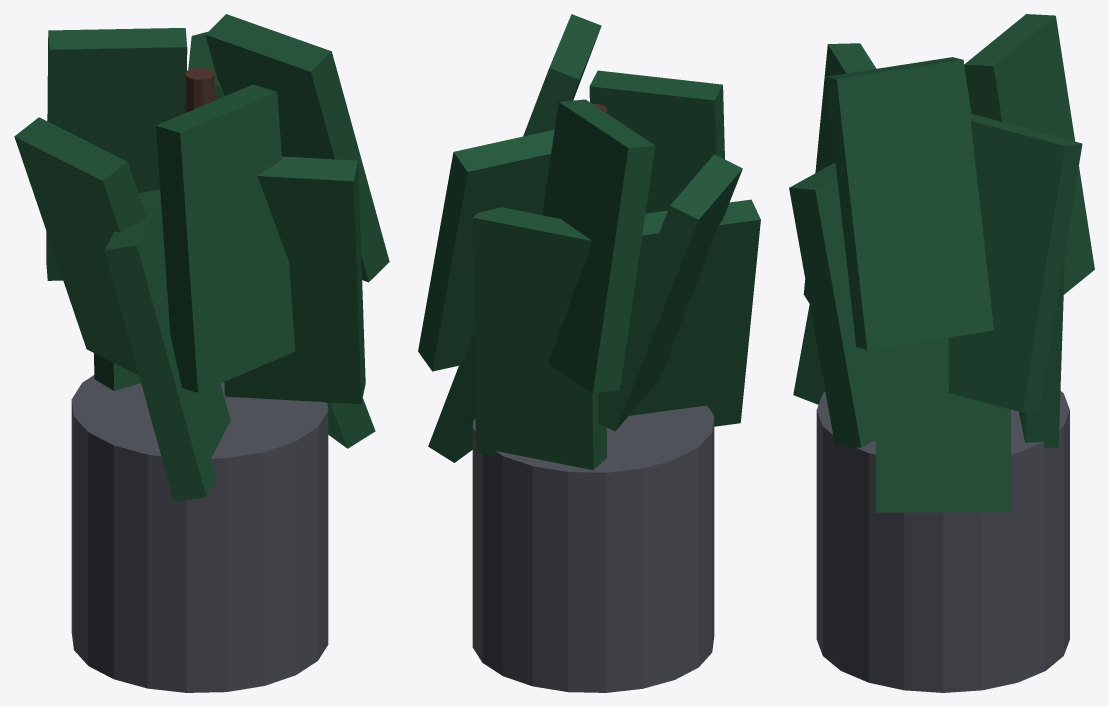
The model's file is plant.glb.
The picture shows the model from 3 angles, left to right: view 1: azimuth 30°, elevation 25°; view 2: azimuth 150°, elevation 25°; view 3: azimuth 270°, elevation 25°; orthographic projection. The views are drawn at different scales.
Visible parts, largest first — view 1: plant; view 2: plant; view 3: plant.
Boxes of the visible parts, x1,y1,x2,y2 form: plant: (14, 14, 389, 692); plant: (418, 14, 760, 692); plant: (789, 14, 1094, 692).
Size of the model in its own units: 0.8046 by 1.56 by 0.7246.
